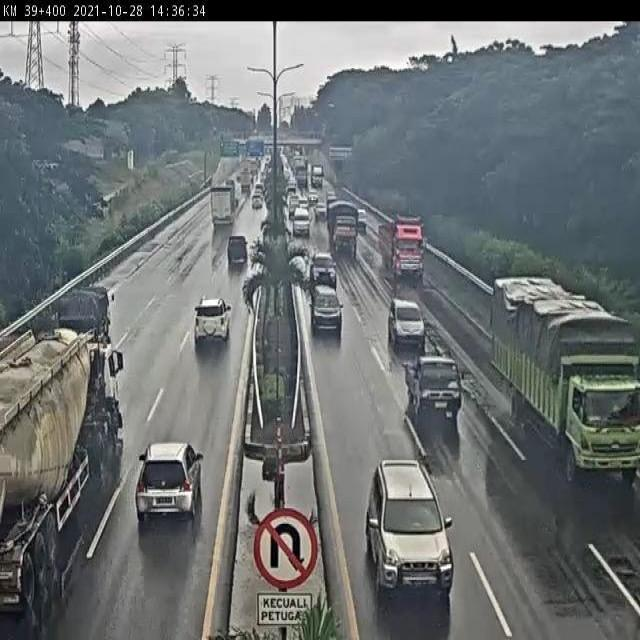big truck: (490, 304, 640, 477), (1, 365, 90, 580), (387, 230, 433, 278), (326, 205, 358, 248), (208, 187, 233, 234)
car: (386, 482, 450, 574), (133, 435, 202, 517), (185, 290, 230, 370), (407, 350, 458, 414), (388, 299, 428, 352), (219, 230, 253, 278), (312, 290, 338, 330), (311, 243, 329, 273), (295, 207, 312, 234), (248, 198, 264, 214)
small truck: (56, 289, 102, 360)
